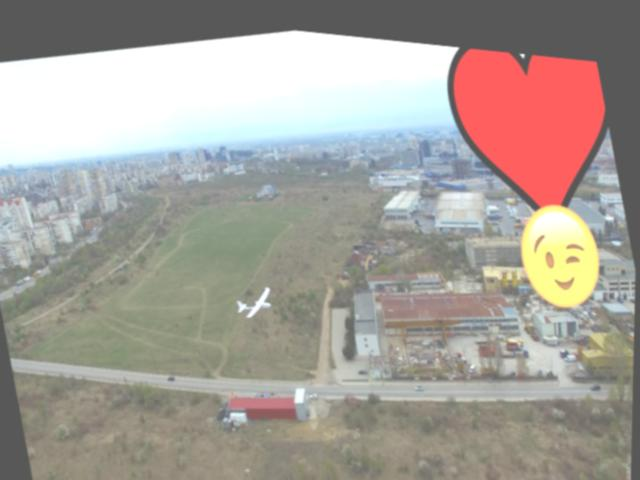plane: (234, 280, 276, 314)
